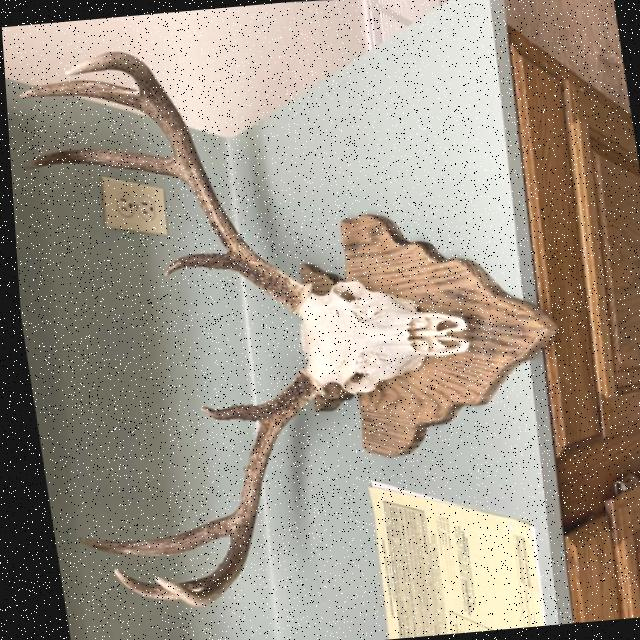L-F: (145, 369, 317, 606)
L-G1: (192, 403, 257, 423)
L-G2: (69, 511, 226, 555)
R-F: (61, 51, 306, 314)
R-G1: (158, 252, 230, 276)
R-G2: (19, 148, 177, 180)
R-G3: (16, 79, 141, 112)
